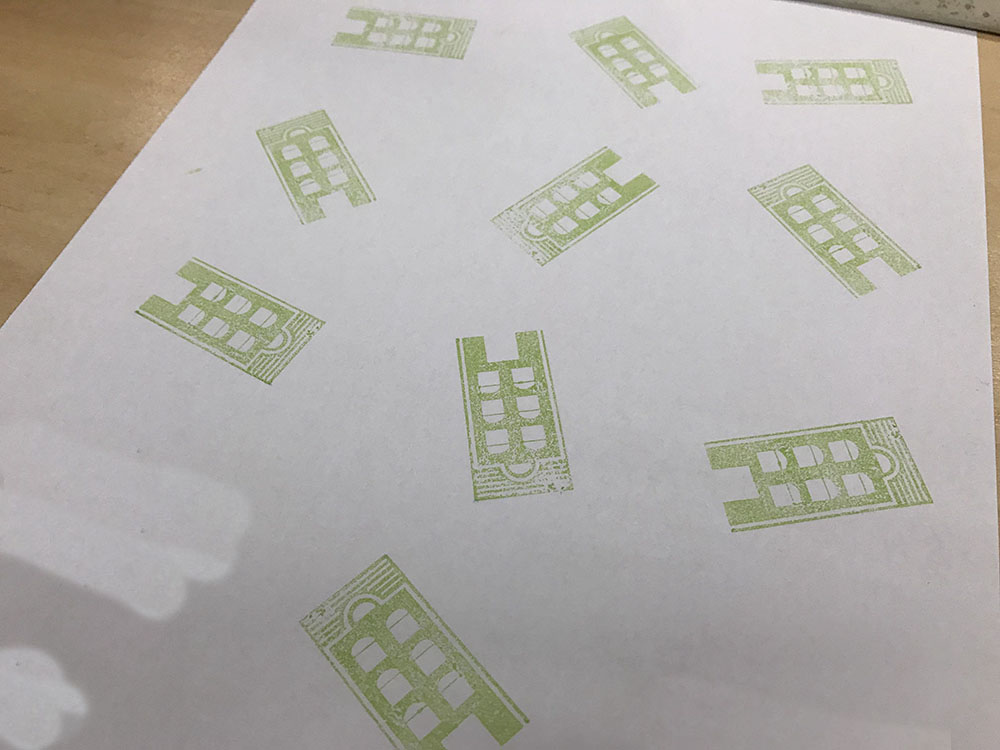build: (279, 556, 577, 747), (687, 392, 961, 559), (437, 312, 604, 523), (736, 148, 940, 320), (120, 253, 347, 398), (481, 125, 672, 284), (551, 4, 709, 131), (245, 104, 394, 238), (741, 42, 926, 124), (323, 4, 494, 75)
